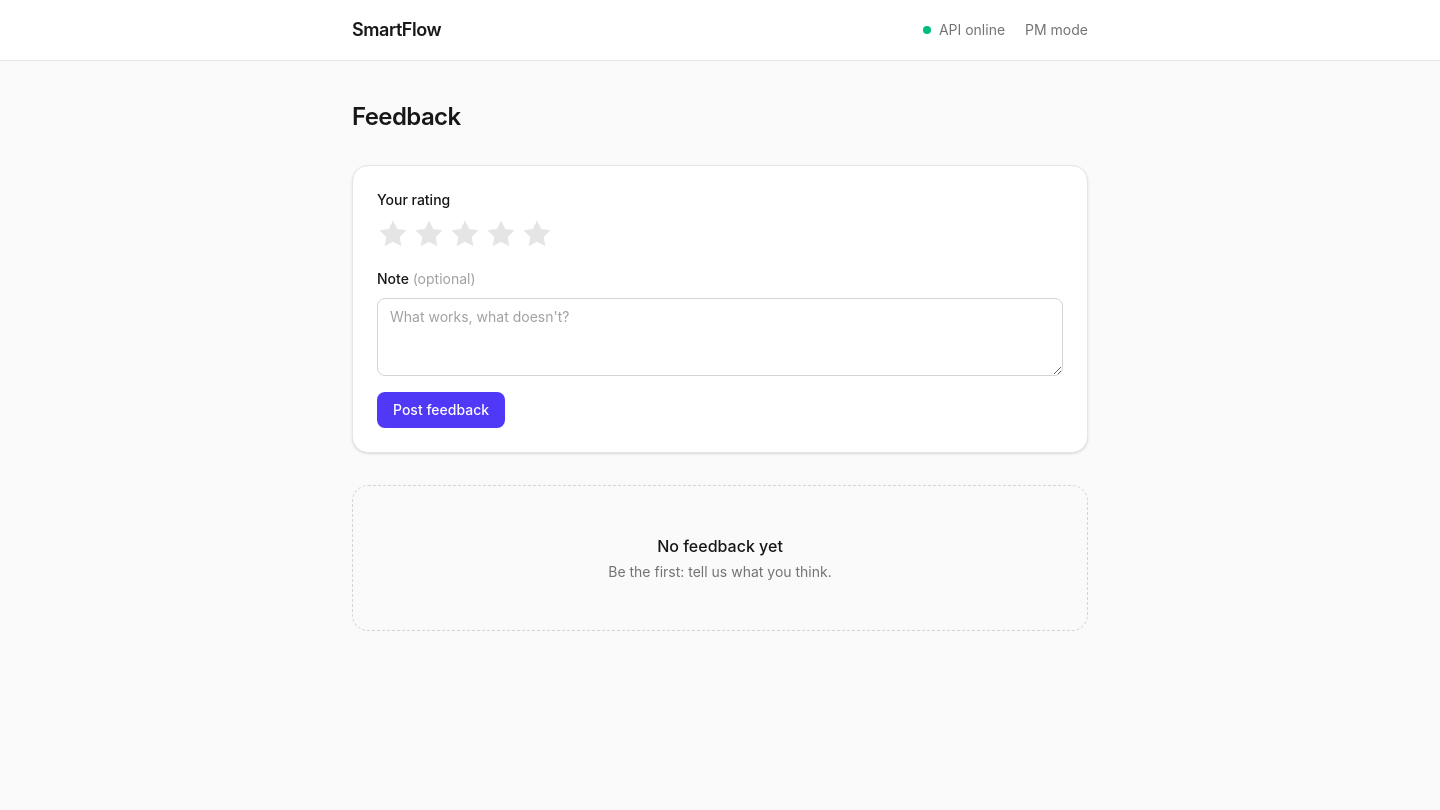
Test case: PM mode (spec 007) › AC-1, AC-2: checks the key, then shows the PM badge
This screenshot has width=1440, height=810.
Click the button "PM mode".
click(1057, 30)  # box x1=1025 y1=20 x2=1088 y2=40
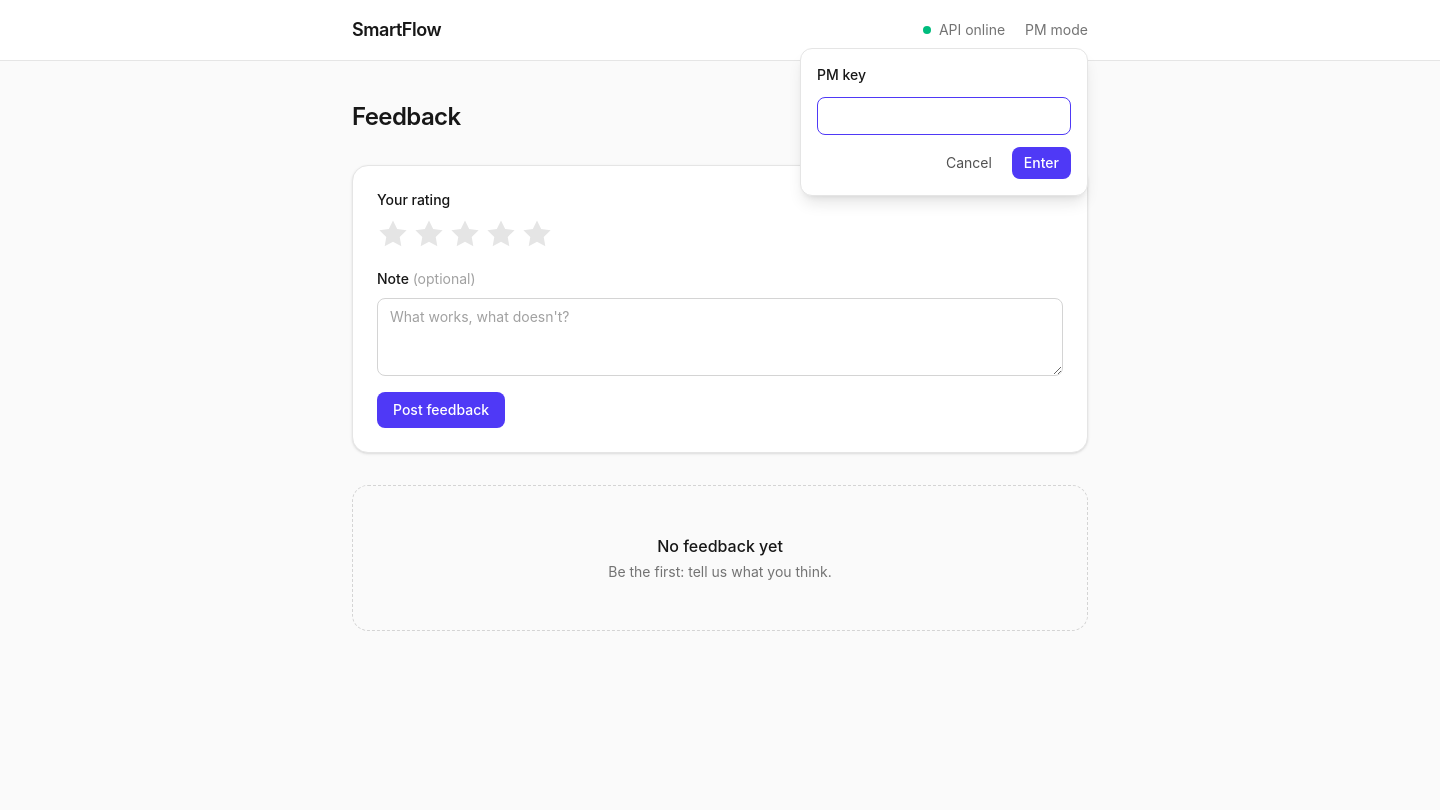
Type "s3cret" into the password field labelled "PM key".
click(944, 116); type("s3cret")  # box x1=817 y1=97 x2=1071 y2=135
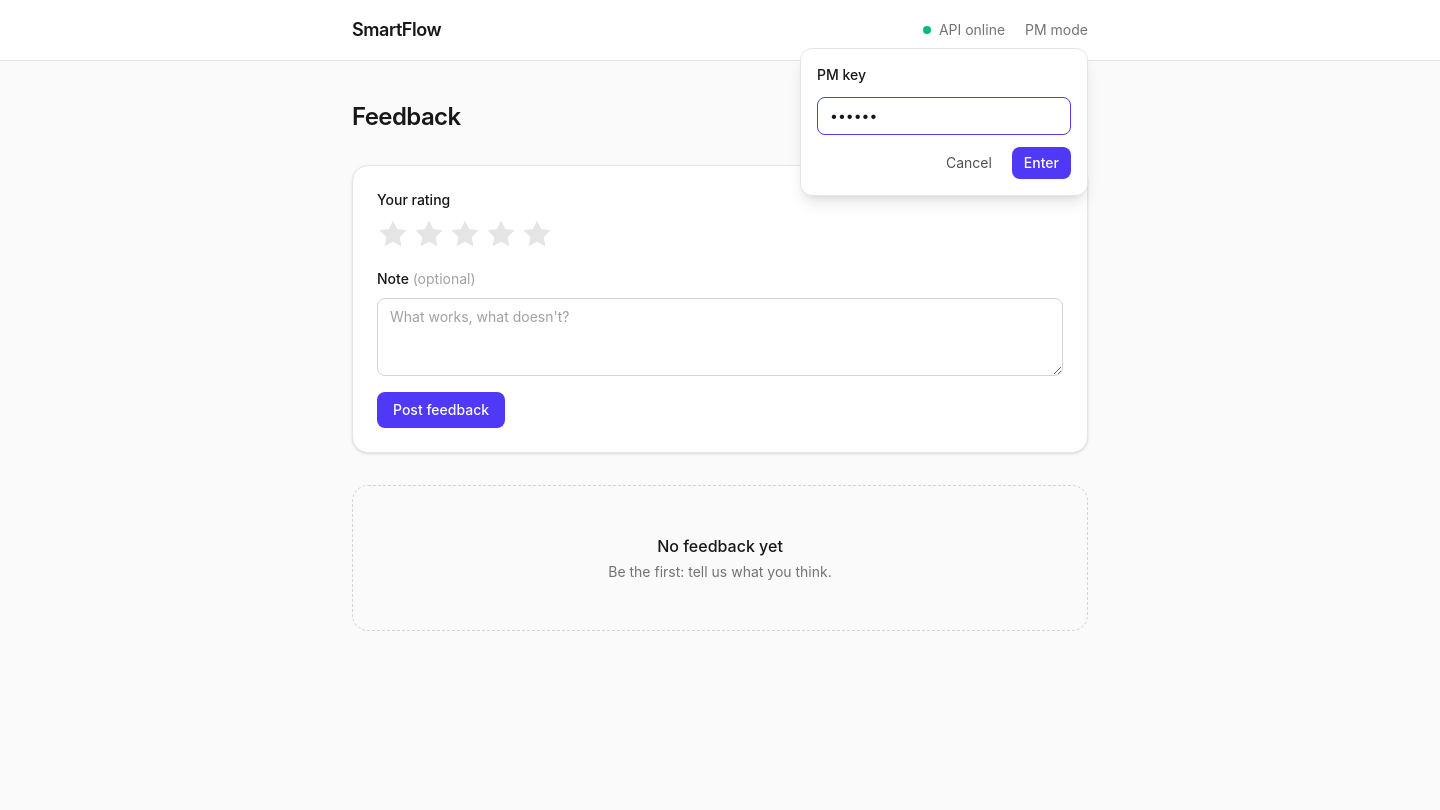
Click the button "Enter".
click(1041, 163)  # box x1=1012 y1=147 x2=1071 y2=179
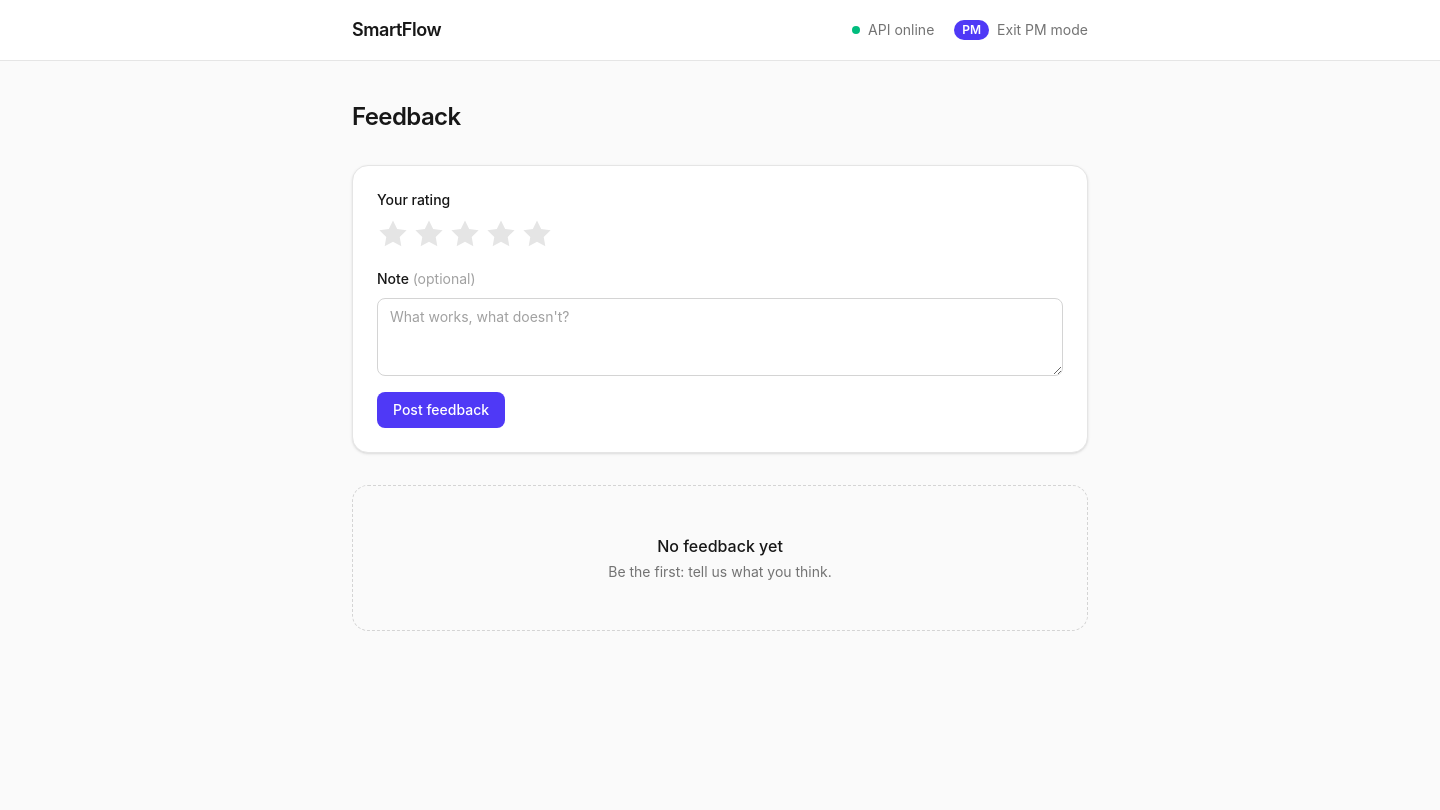
Result: the text "PM" is shown at x1=954 y1=20 x2=989 y2=40
Result: the button "Exit PM mode" is shown at x1=997 y1=20 x2=1088 y2=40
